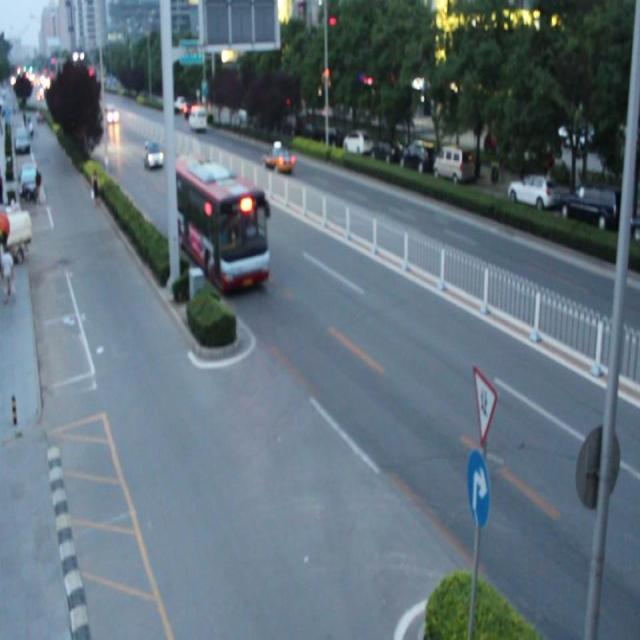car: (260, 146, 292, 172), (142, 143, 165, 169)
van: (172, 151, 268, 288)
